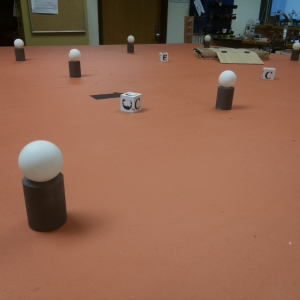blockC: (120, 91, 143, 112), (262, 66, 275, 81)
blockF: (159, 51, 170, 63)
corner: (184, 16, 194, 43)
obstacle: (23, 137, 64, 231), (216, 71, 236, 112), (69, 48, 82, 79), (14, 38, 24, 63), (125, 34, 135, 54), (290, 42, 299, 62), (203, 34, 210, 49)
side: (193, 47, 215, 63)
slope: (215, 48, 264, 65)
start: (92, 88, 125, 104)
